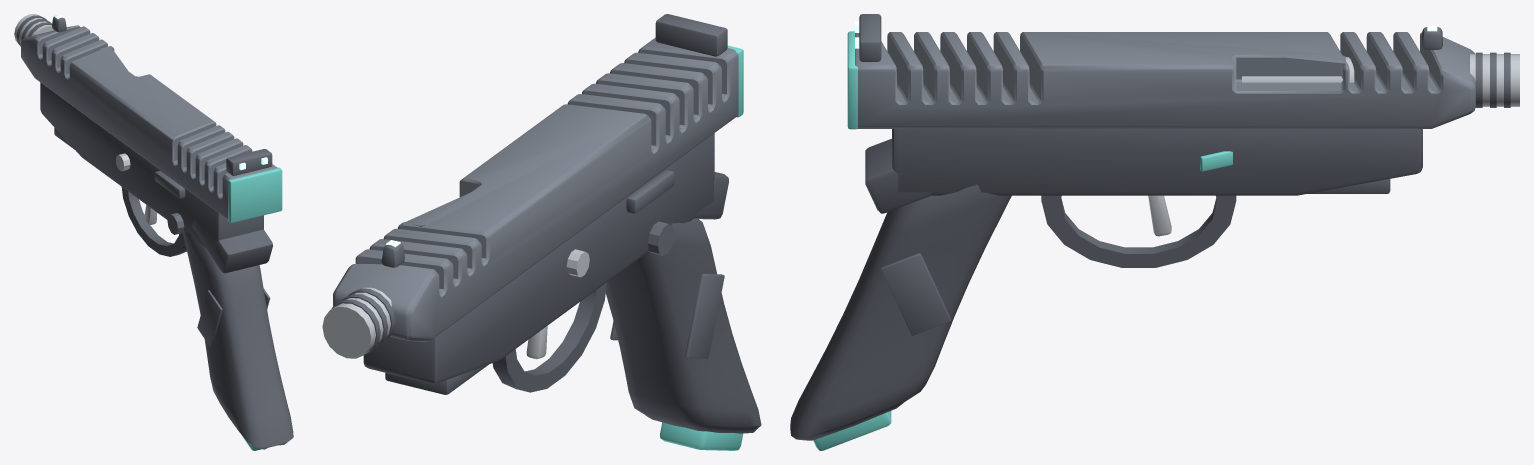
File: weapon_pistol.glb
3 views of the same model, side by side, from view 1: azimuth 30°, elevation 25°; view 2: azimuth 150°, elevation 25°; view 3: azimuth 270°, elevation 25° (orthographic). The views are drawn at different scales.
Parts seen in each view (by area): view 1: weapon_pistol_v3; view 2: weapon_pistol_v3; view 3: weapon_pistol_v3.
Part boxes in pixels (x1,y1,x2,y2): weapon_pistol_v3: (14,14,293,450); weapon_pistol_v3: (322,14,761,450); weapon_pistol_v3: (790,14,1519,450).
Bounding box in the file's own units: 0.0346 × 0.1466 × 0.2337.
